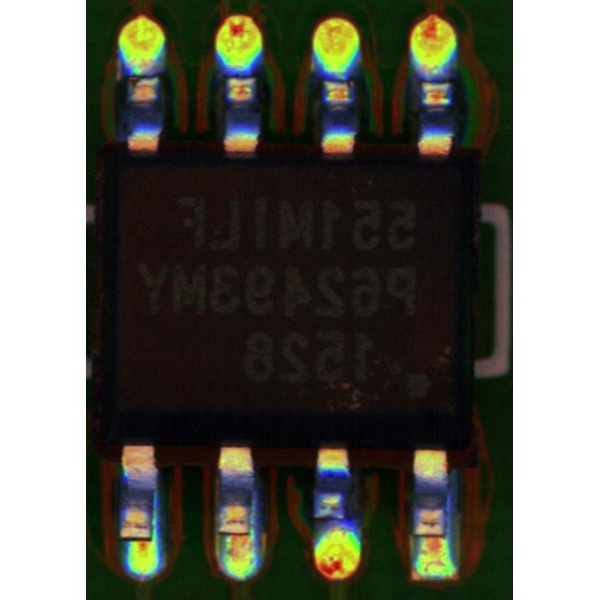Bad_podu: (418, 528, 443, 547), (224, 525, 250, 542), (128, 531, 150, 551)
Bad_qiaojiao: (151, 486, 161, 536), (445, 476, 452, 539), (252, 489, 257, 536)
